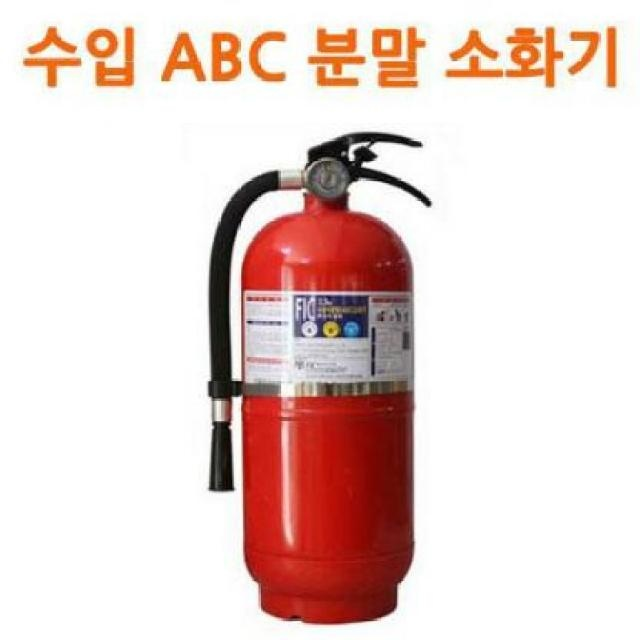fire extinguisher: (208, 132, 432, 626)
